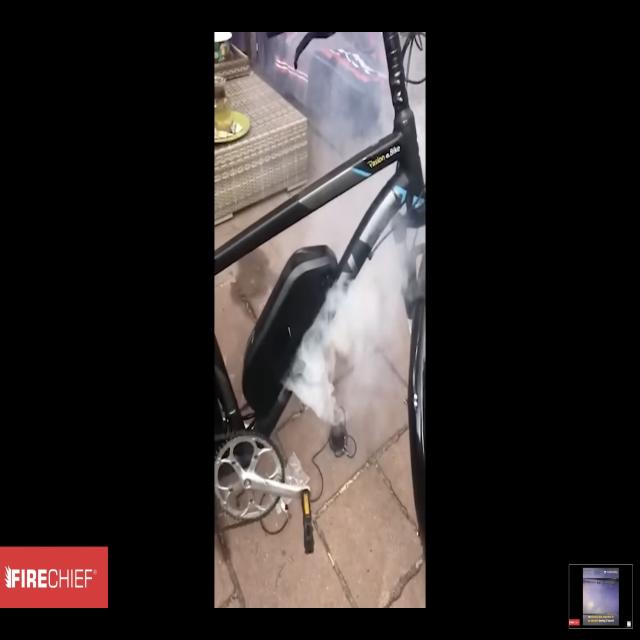Atencao: (237, 144, 434, 464)
